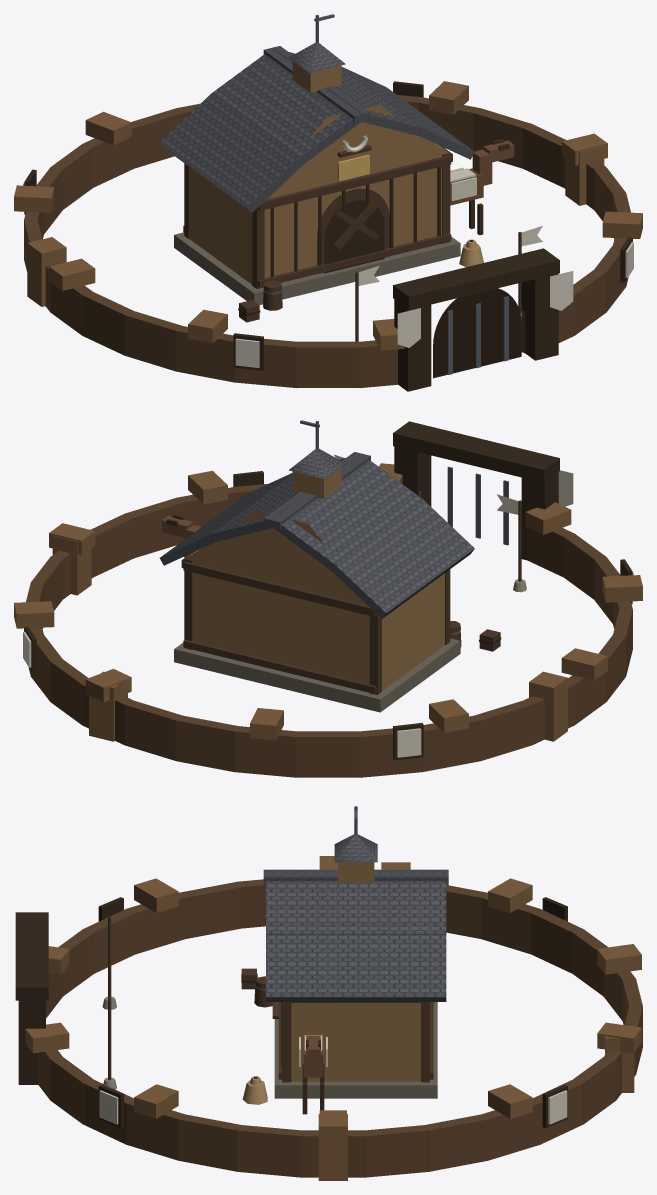
The model's file is town-cavalry-L1.glb.
3 renders of one model, top to bottom at view 1: azimuth 30°, elevation 25°; view 2: azimuth 150°, elevation 25°; view 3: azimuth 270°, elevation 25°, orthographic.
Visible parts, largest first — view 1: building-cavalry-L1, object 8, object 9, object 10, object 12, object 11, object 2, object 13, object 7; view 2: building-cavalry-L1, object 8, object 9, object 10, object 11, object 13, object 2; view 3: object 8, building-cavalry-L1, object 9, object 10, object 2, object 11, object 5.
Part boxes in pixels (left/top/right/bottom): building-cavalry-L1: left=159, top=14, right=514, bottom=305; object 8: left=24, top=95, right=632, bottom=387; object 9: left=14, top=81, right=642, bottom=350; object 10: left=24, top=81, right=632, bottom=391; object 12: left=433, top=288, right=521, bottom=378; object 11: left=23, top=175, right=633, bottom=367; object 2: left=239, top=232, right=521, bottom=341; object 13: left=447, top=296, right=508, bottom=374; object 7: left=358, top=226, right=542, bottom=285; building-cavalry-L1: left=159, top=420, right=474, bottom=712; object 8: left=24, top=484, right=632, bottom=777; object 9: left=14, top=463, right=642, bottom=741; object 10: left=24, top=421, right=632, bottom=760; object 11: left=23, top=470, right=633, bottom=757; object 13: left=447, top=466, right=508, bottom=545; object 2: left=450, top=500, right=521, bottom=651; object 8: left=38, top=879, right=642, bottom=1177; building-cavalry-L1: left=263, top=806, right=448, bottom=1114; object 9: left=25, top=856, right=641, bottom=1180; object 10: left=15, top=897, right=567, bottom=1128; object 2: left=108, top=916, right=272, bottom=1080; object 11: left=99, top=1090, right=567, bottom=1124; object 5: left=242, top=1076, right=267, bottom=1104.
Size of the model in its own units: 7.02 by 2.91 by 6.89.
15 materials, 1 textured.
